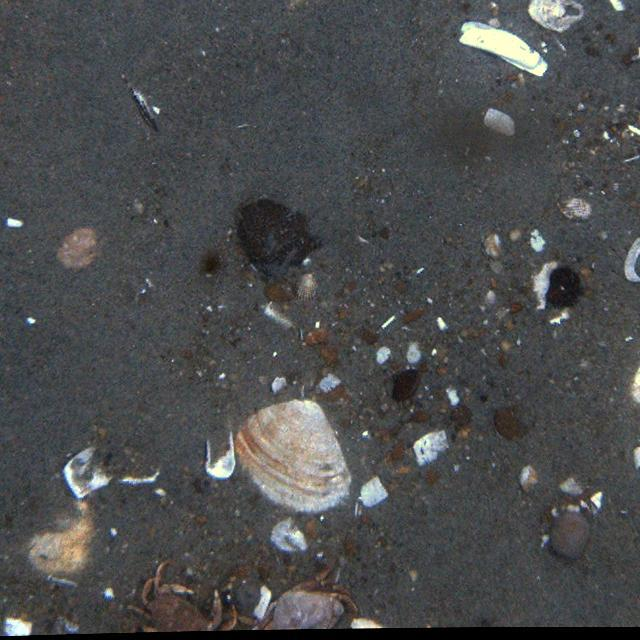crab: (129, 560, 238, 638), (248, 569, 362, 631)
